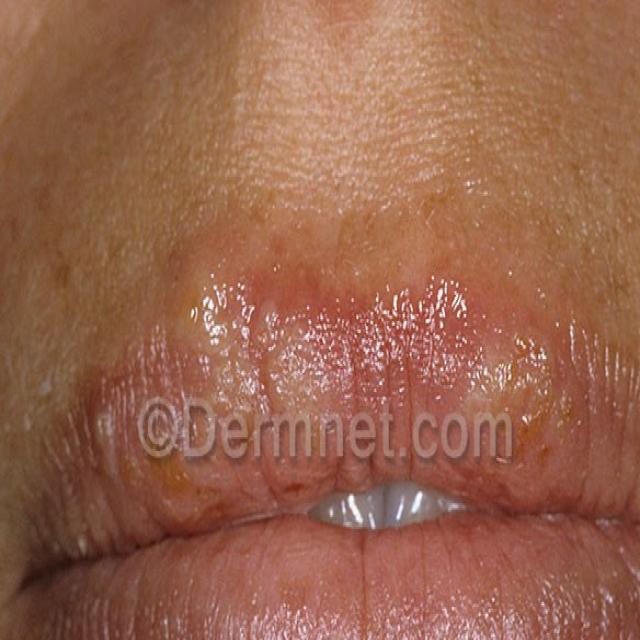Viral Infections: (98, 235, 607, 497)
